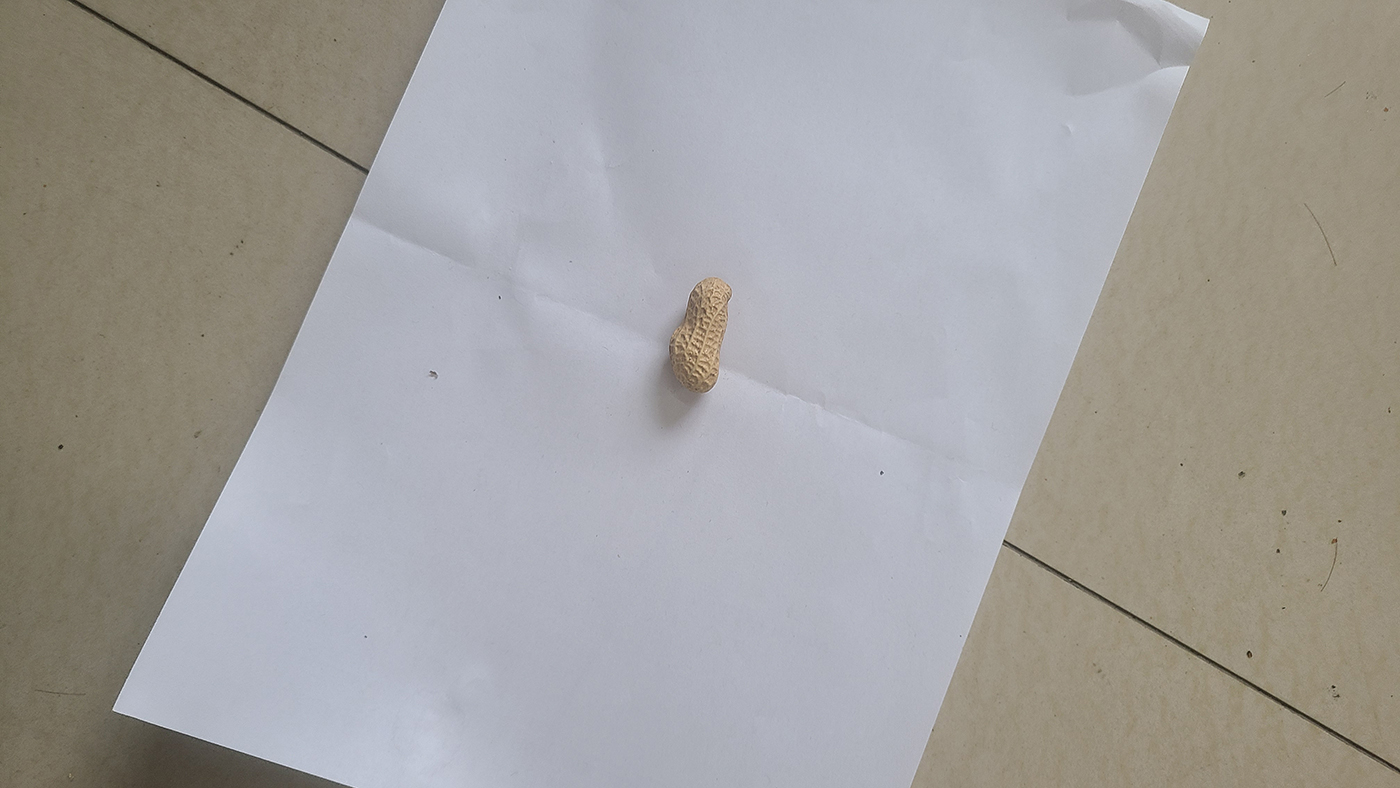h: (670, 278, 732, 392)
